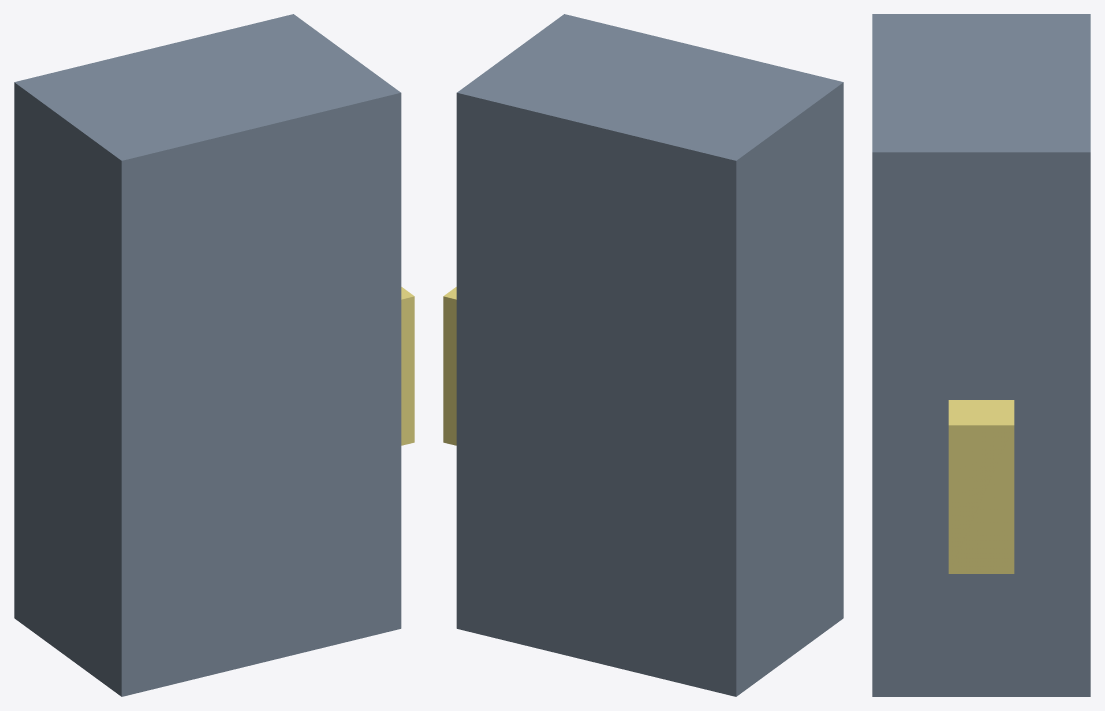
The model's file is unconfined_compression_vane_shear.glb.
3 views of the same model, side by side, from view 1: azimuth 30°, elevation 25°; view 2: azimuth 150°, elevation 25°; view 3: azimuth 270°, elevation 25° (orthographic).
Visible parts, largest first — view 1: UCSTestingMachineGuideColumns, FourBladedShearVaneAssembly; view 2: UCSTestingMachineGuideColumns, FourBladedShearVaneAssembly; view 3: UCSTestingMachineGuideColumns, FourBladedShearVaneAssembly.
Part boxes in pixels (x1,y1,x2,y2): UCSTestingMachineGuideColumns: (14,14,401,696); FourBladedShearVaneAssembly: (401,287,414,445); UCSTestingMachineGuideColumns: (456,14,843,696); FourBladedShearVaneAssembly: (443,287,456,445); UCSTestingMachineGuideColumns: (872,14,1090,696); FourBladedShearVaneAssembly: (948,400,1014,573).
Bounding box in the file's own units: 0.71 × 1.1 × 0.4.
